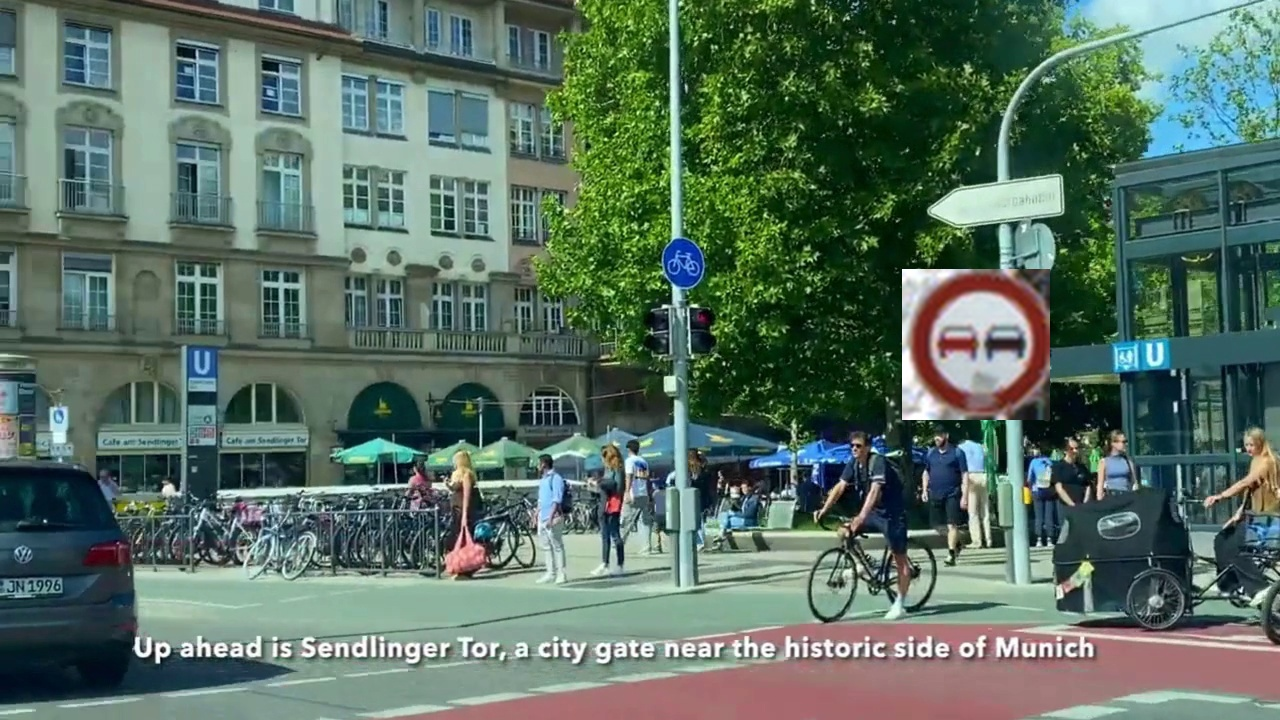No passing: (902, 269, 1050, 420)
